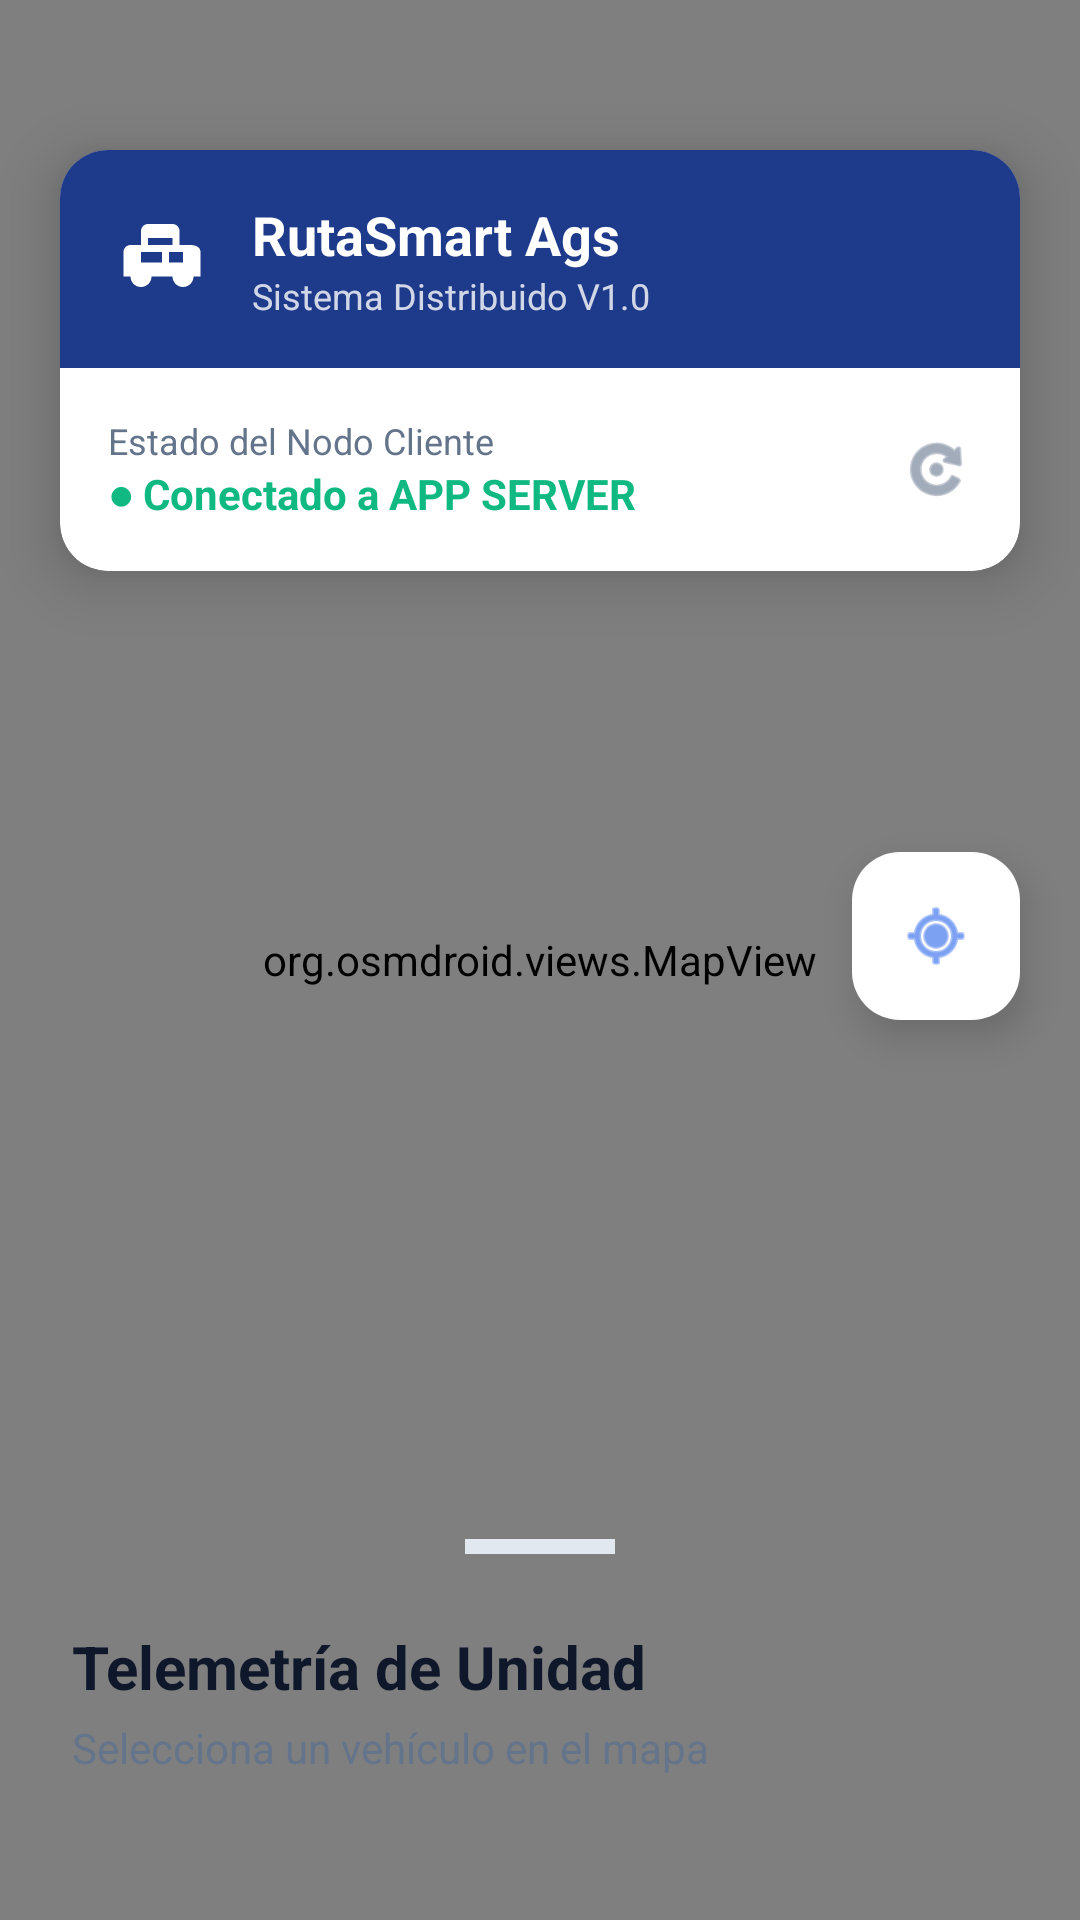

Where to tap for icons on this 1080w x 1920h app screen, as point (x, y):
bus: point (162, 255)
Centrar: point (936, 936)
rotate: point (936, 469)
